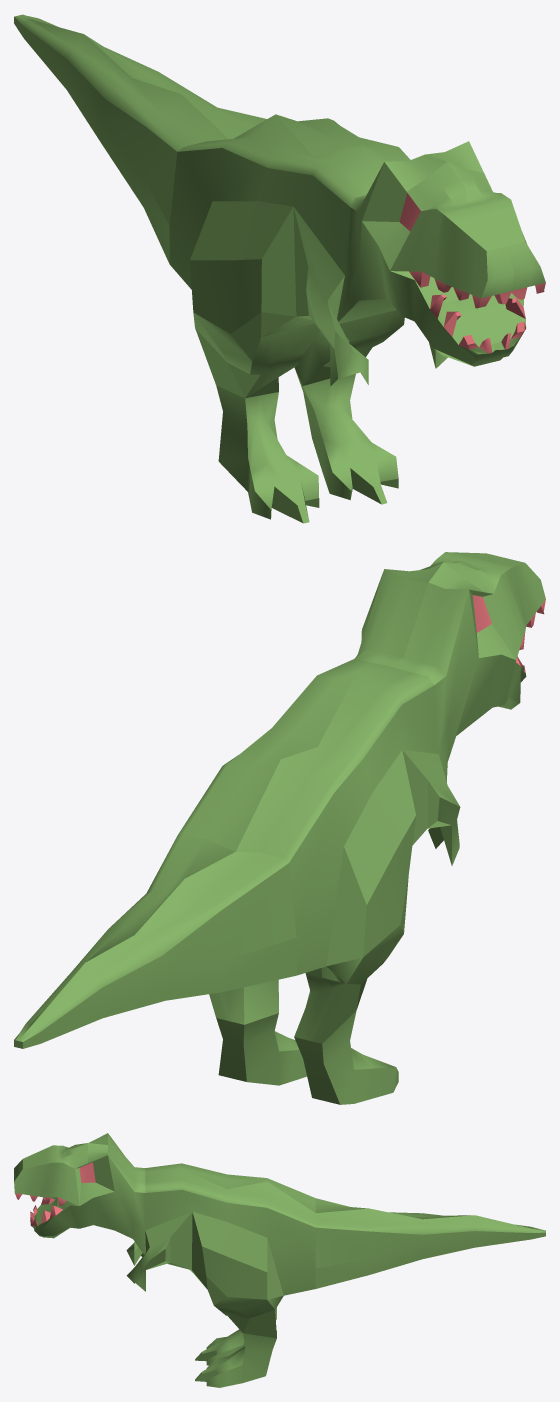
The model's file is TRex3.fbx.
The picture shows the model from 3 angles, top to bottom: view 1: azimuth 30°, elevation 25°; view 2: azimuth 150°, elevation 25°; view 3: azimuth 270°, elevation 25°; orthographic projection. The views are drawn at different scales.
Visible parts, largest first — view 1: pCube3; view 2: pCube3; view 3: pCube3.
Boxes of the visible parts, x1,y1,x2,y2 form: pCube3: [14, 14, 545, 523]; pCube3: [14, 552, 545, 1104]; pCube3: [14, 1133, 545, 1387].
Size of the model in its own units: 2.17 by 4.96 by 10.51.
